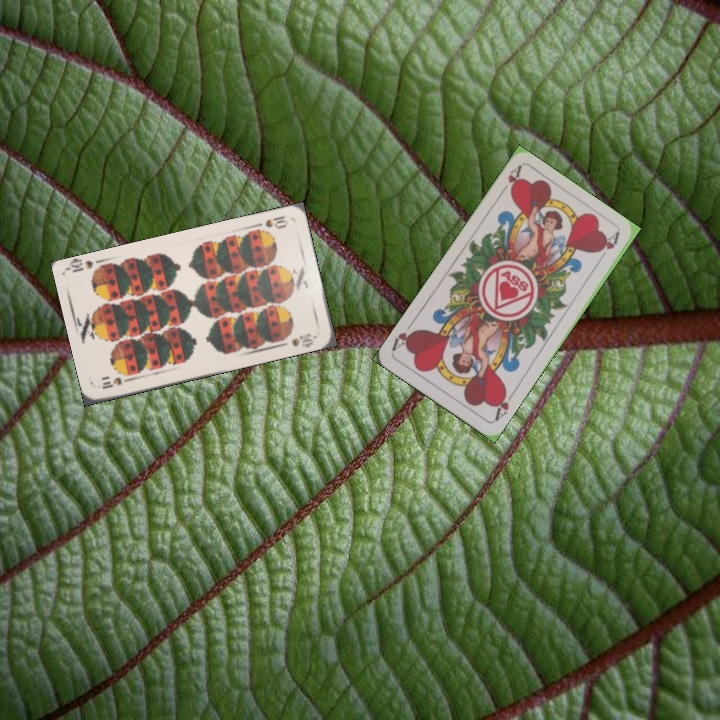HA: (495, 162, 524, 199), (490, 385, 517, 424)
S10: (250, 212, 290, 235), (98, 373, 135, 392)
